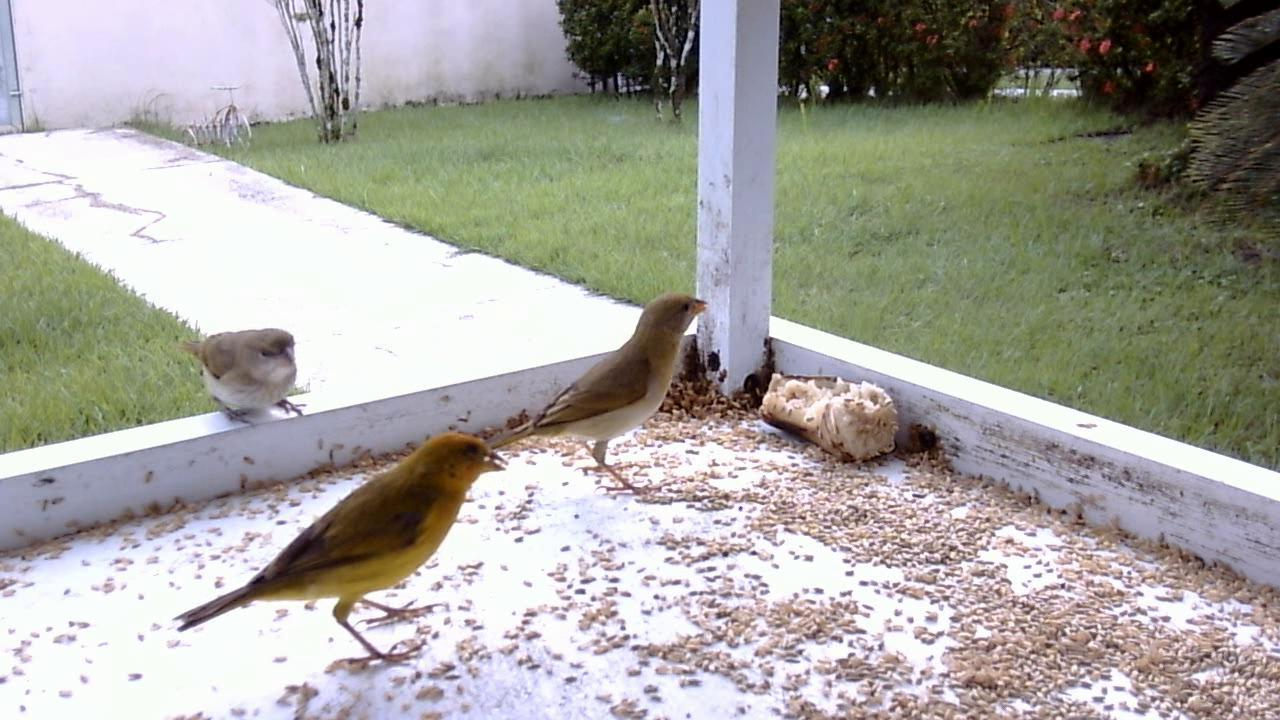canario_do_amazonas: (157, 422, 513, 680), (485, 289, 710, 505), (173, 318, 313, 433)
